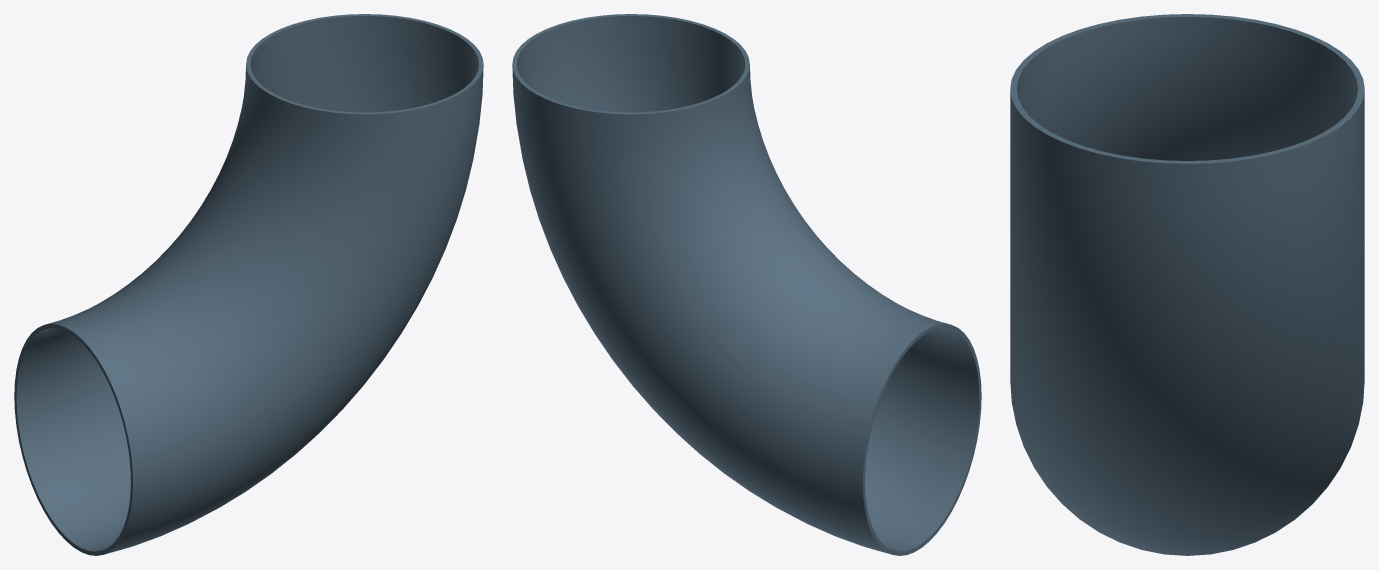
Rendered from otvod-90-530x10-R750.glb.
3 views of the same model, side by side, from view 1: azimuth 30°, elevation 25°; view 2: azimuth 150°, elevation 25°; view 3: azimuth 270°, elevation 25° (orthographic). The views are drawn at different scales.
Parts seen in each view (by area): view 1: Open CASCADE STEP translator 7.9 98; view 2: Open CASCADE STEP translator 7.9 98; view 3: Open CASCADE STEP translator 7.9 98.
Boxes of the visible parts, x1,y1,x2,y2 form: Open CASCADE STEP translator 7.9 98: (14,14,483,555); Open CASCADE STEP translator 7.9 98: (512,14,981,555); Open CASCADE STEP translator 7.9 98: (1010,14,1364,555).
Bounding box in the file's own units: 1015 × 1015 × 530.
